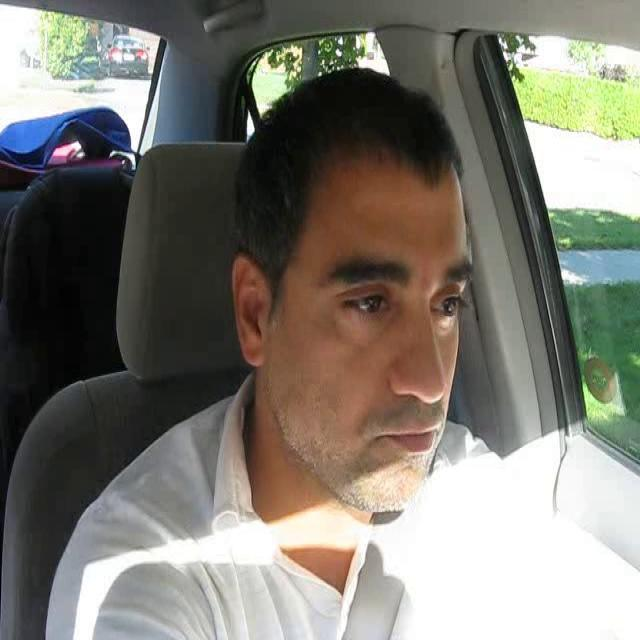close: (373, 417, 444, 455)
